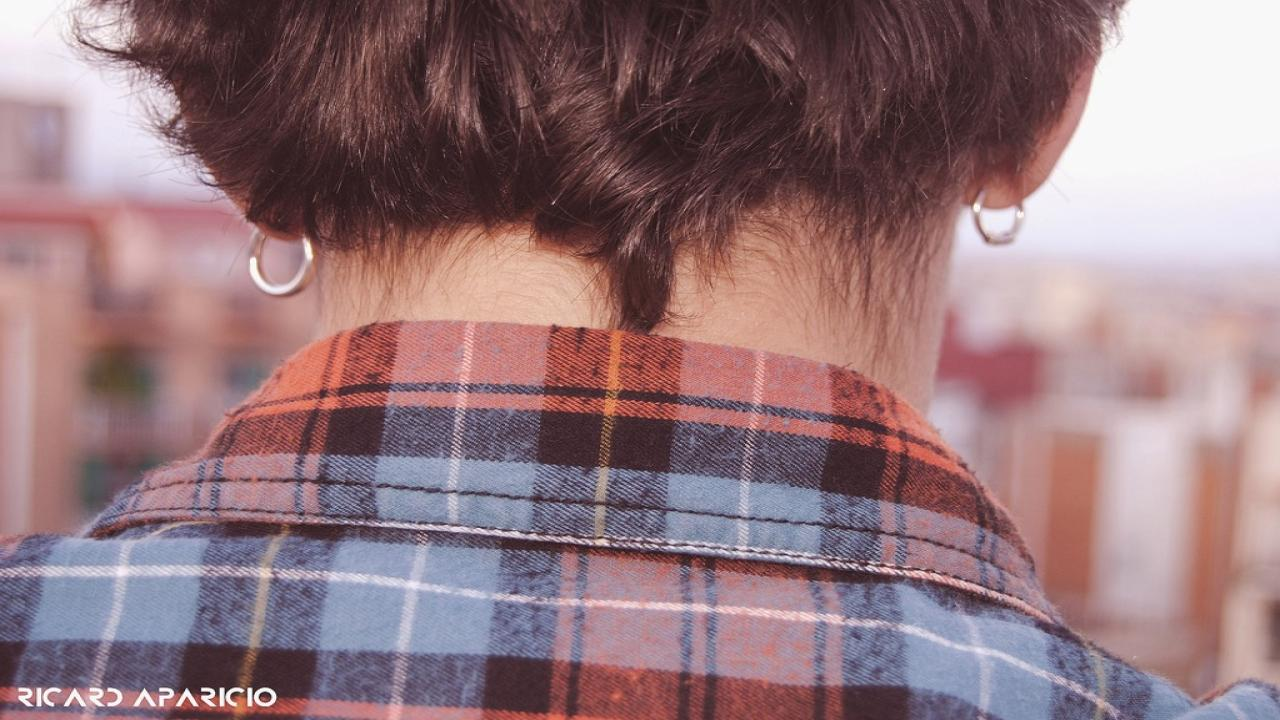ring: (242, 214, 316, 297), (969, 175, 1030, 251)
